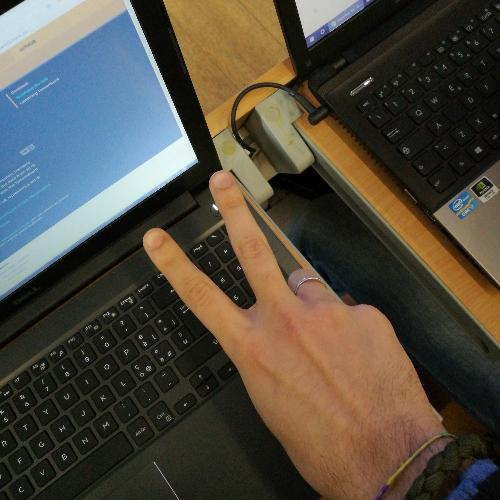scissors: (130, 164, 445, 490)
